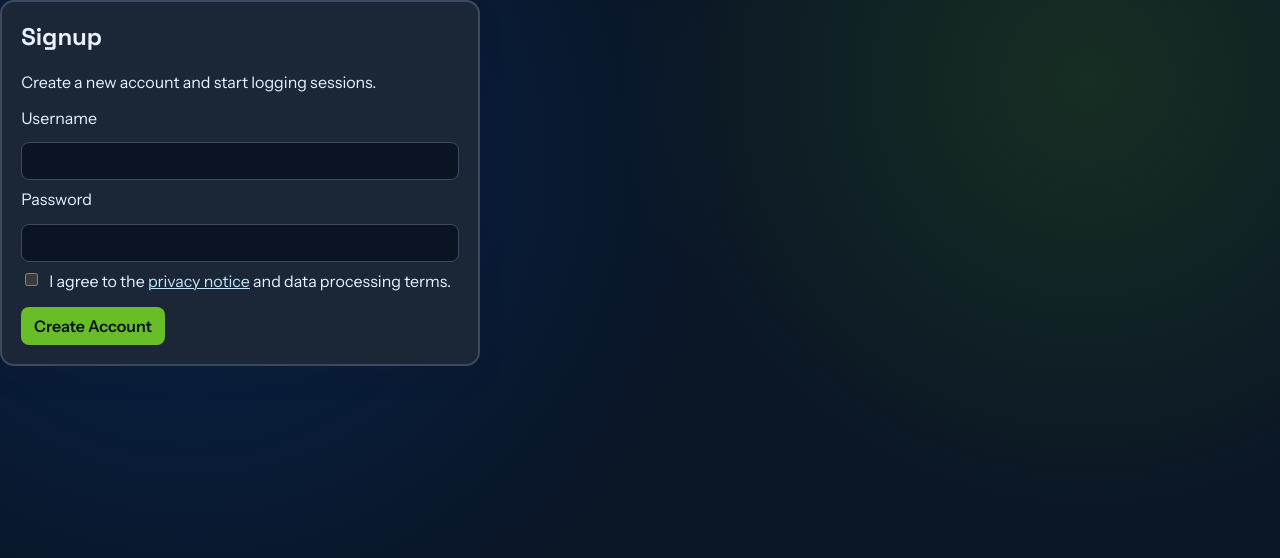
SignupPage › shows API error on failed signup
Type "Jane Doe" into the field labelled "Username".
click(240, 162); type("Jane Doe")  # box [21,142,459,180]
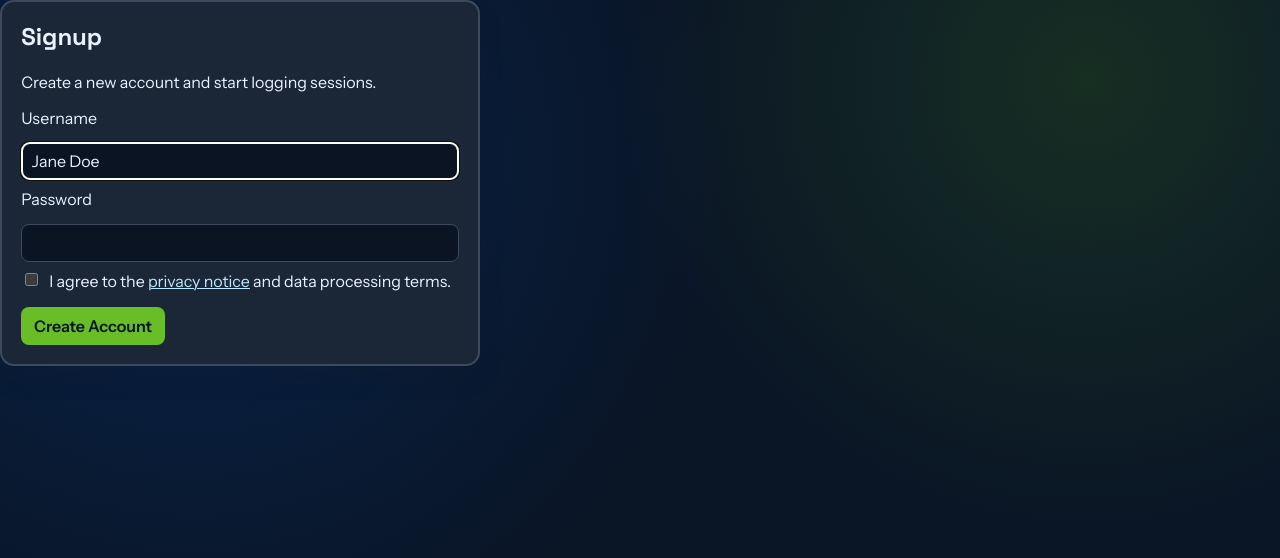
Type "super-secure-password" into the password field labelled "Password".
click(240, 243); type("super-secure-password")  # box [21,224,459,262]
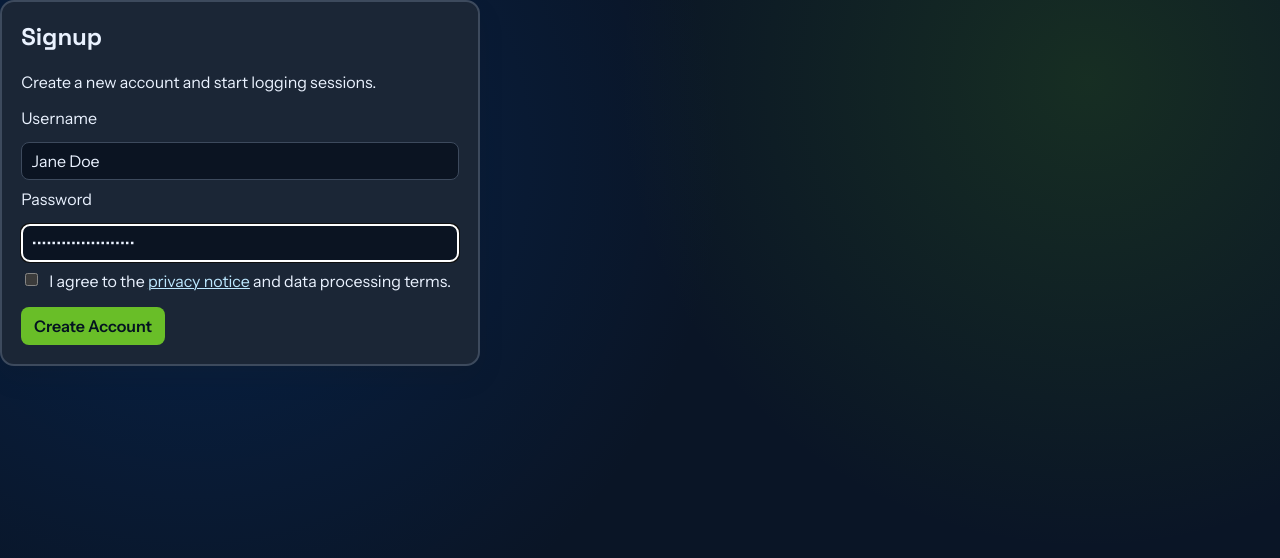
Click the checkbox labelled "I agree to the privacy notice and data processing terms.".
click(32, 280)  # box [25,274,38,286]
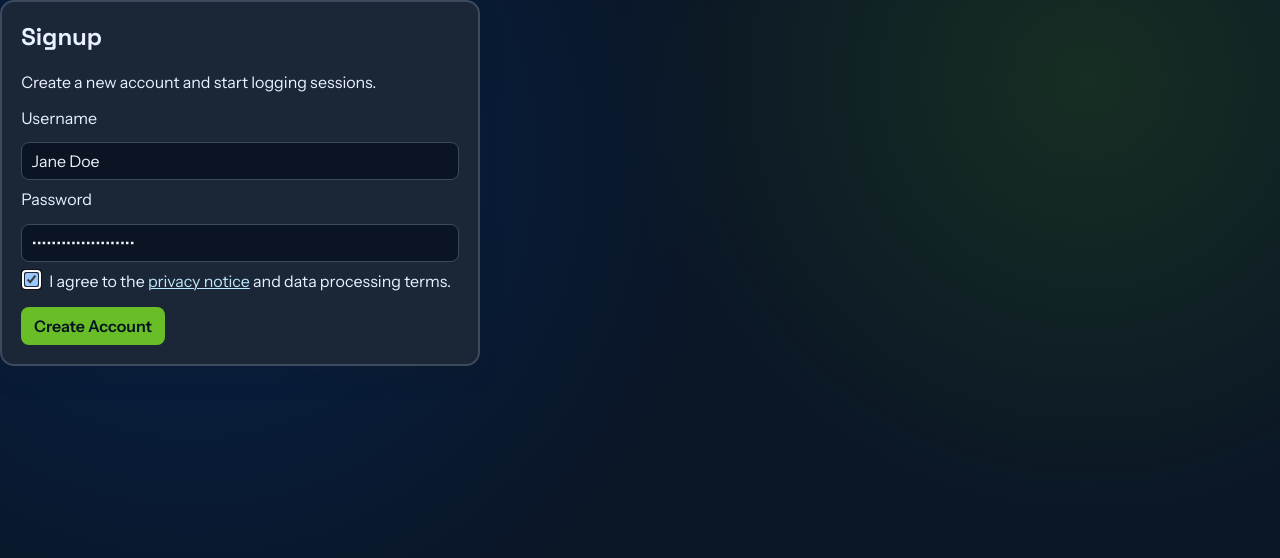
Click the button "Create Account".
click(93, 326)  # box [21,307,165,345]
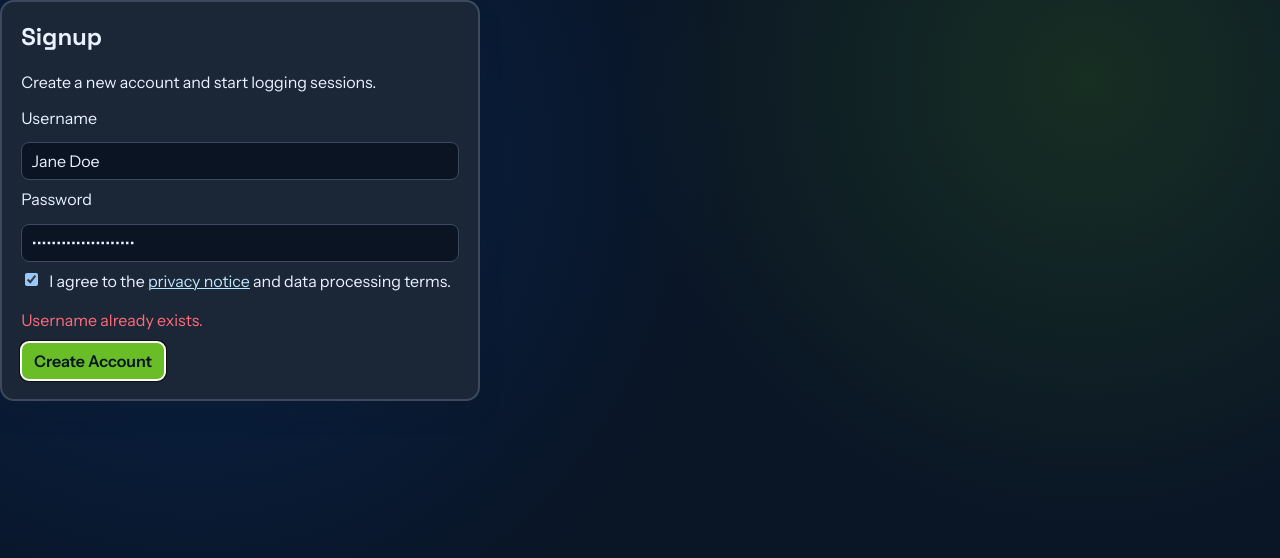
Expected: the text "Username already exists." is shown, [21,310,203,330]
